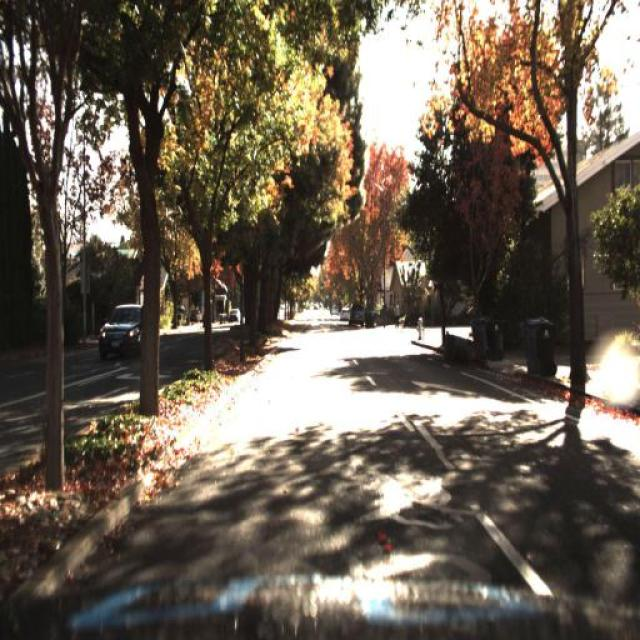car: (97, 299, 154, 361), (90, 300, 148, 355), (344, 300, 368, 330)
trafficLight: (392, 299, 402, 332)
